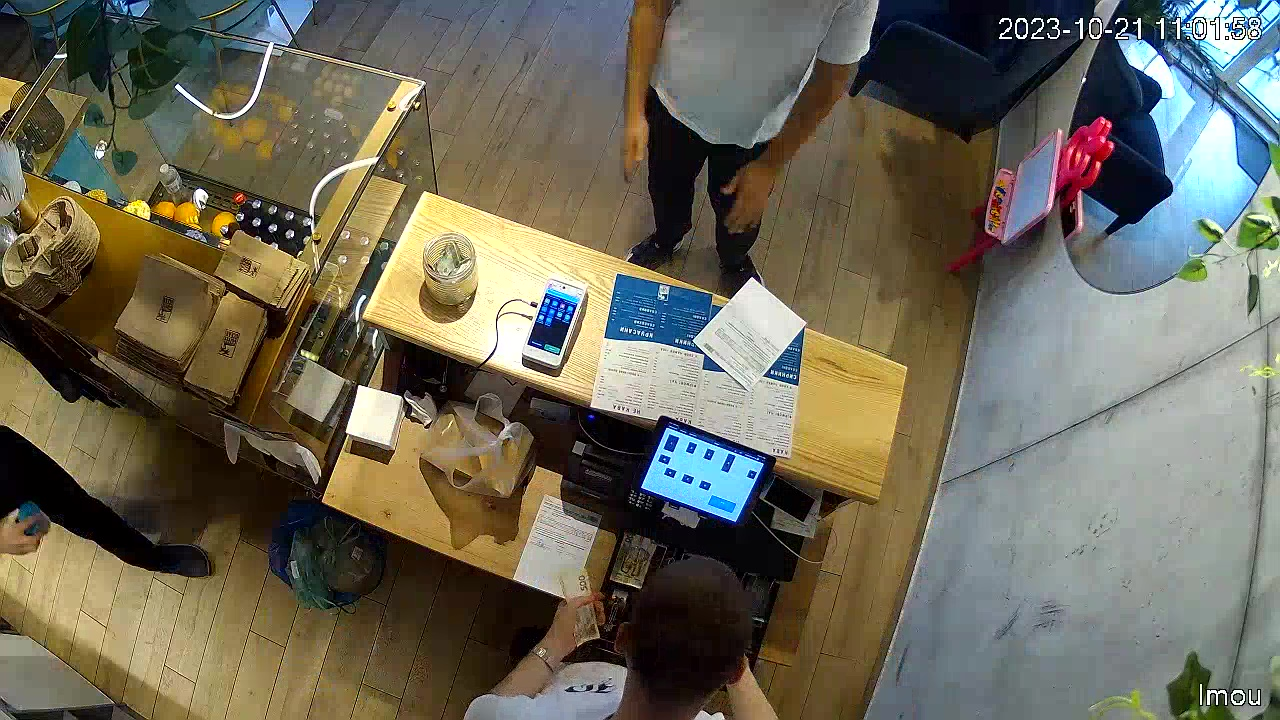openedcash: (597, 424, 777, 680)
